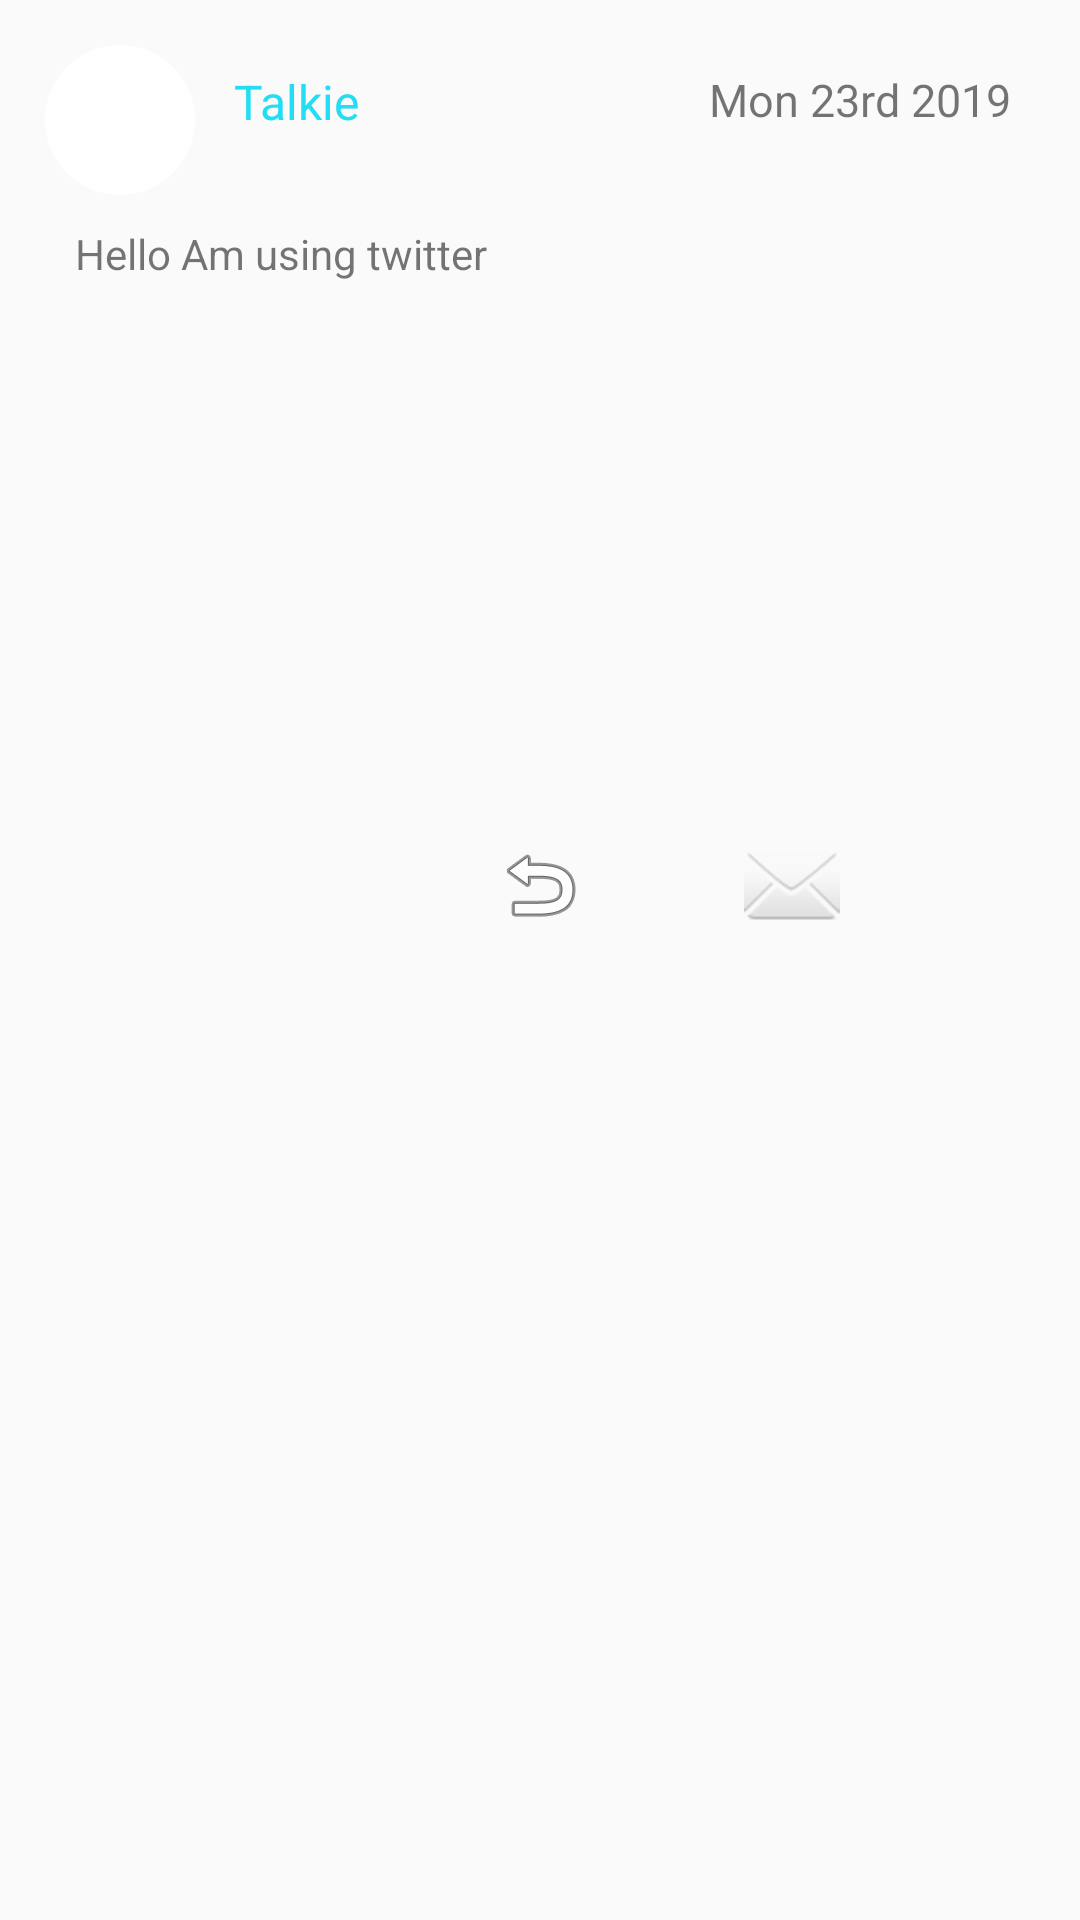

Where icons sit on this 1080px x 1920px app screen, as box=[x1, y1, x2, y2]:
email: box=[744, 854, 840, 920]
revert: box=[507, 854, 576, 917]
